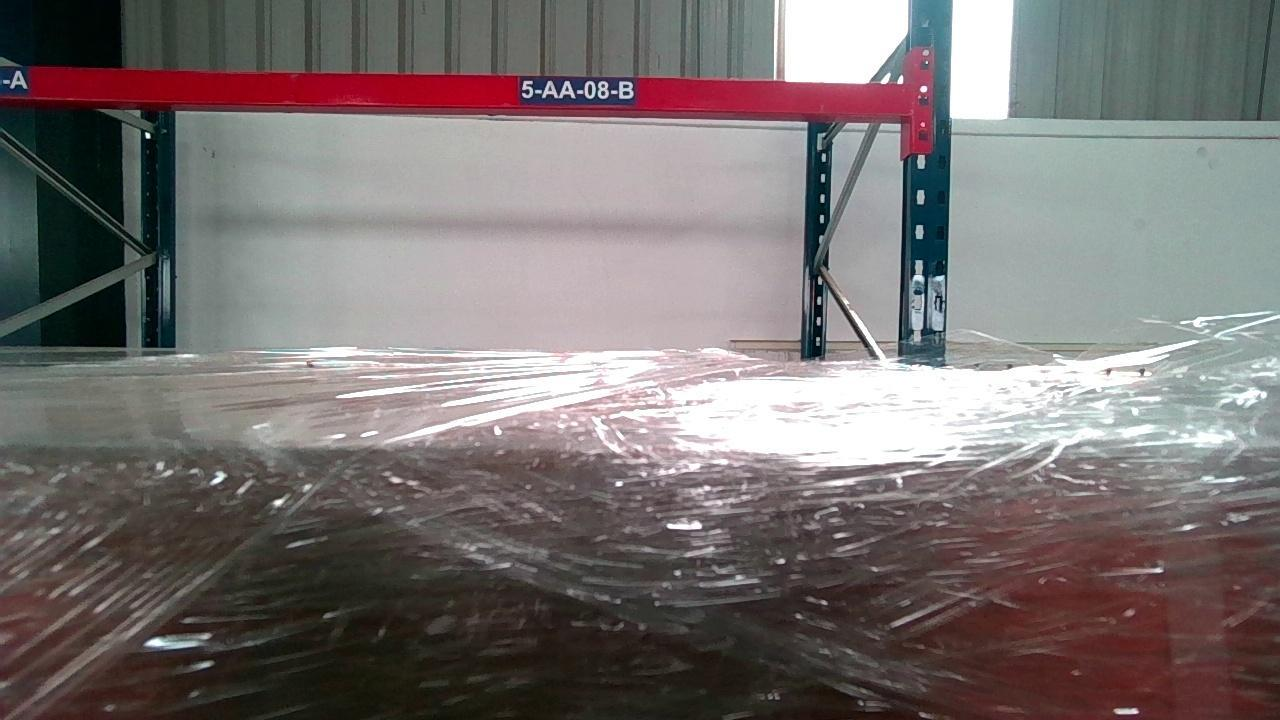h_rack: (0, 64, 910, 117)
